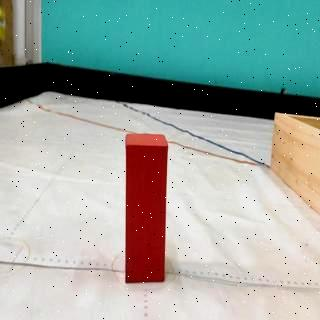redbox: (125, 131, 169, 285)
